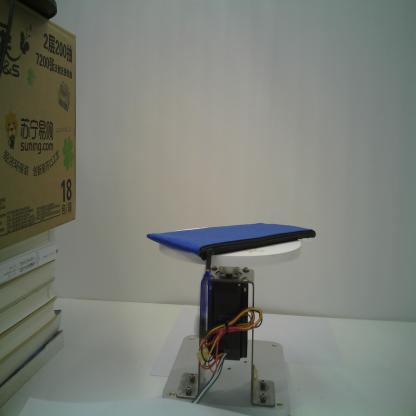Stationery: (146, 222, 317, 336)
